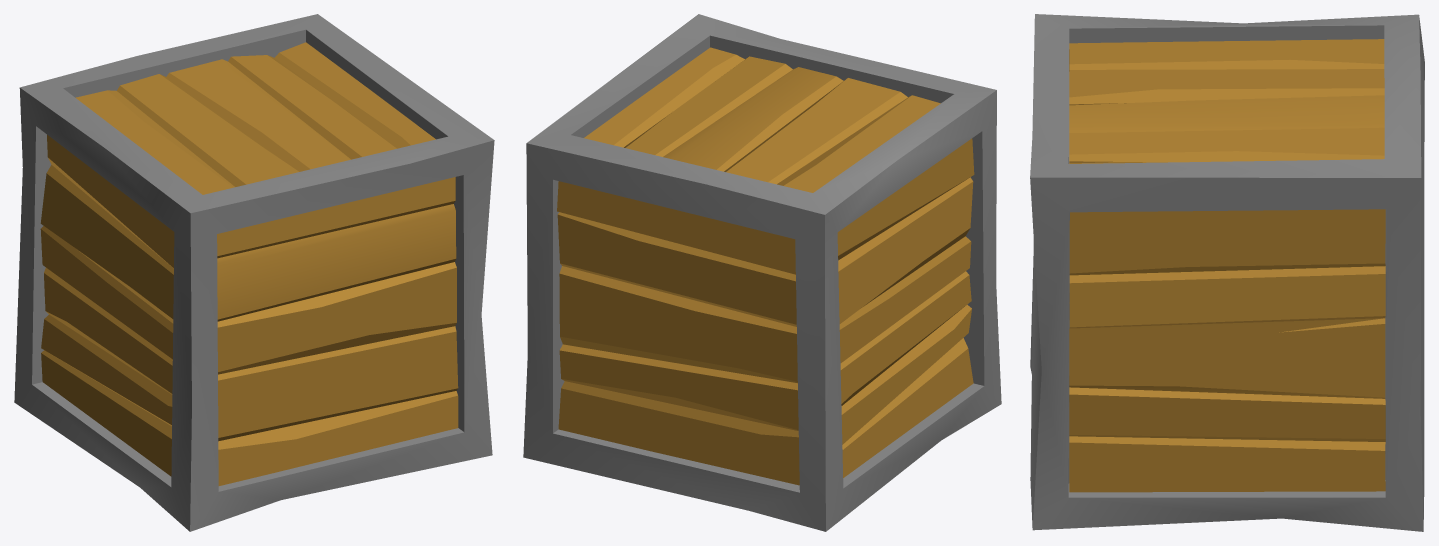
3 views of the same model, side by side, from view 1: azimuth 30°, elevation 25°; view 2: azimuth 150°, elevation 25°; view 3: azimuth 270°, elevation 25° (orthographic). The views are drawn at different scales.
Parts seen in each view (by area): view 1: Object_4; view 2: Object_4; view 3: Object_4.
Part boxes in pixels (x1,y1,x2,y2): Object_4: (14,14,494,531); Object_4: (523,14,1001,531); Object_4: (1030,14,1424,531).
Size of the model in its own units: 104 by 104 by 104.
